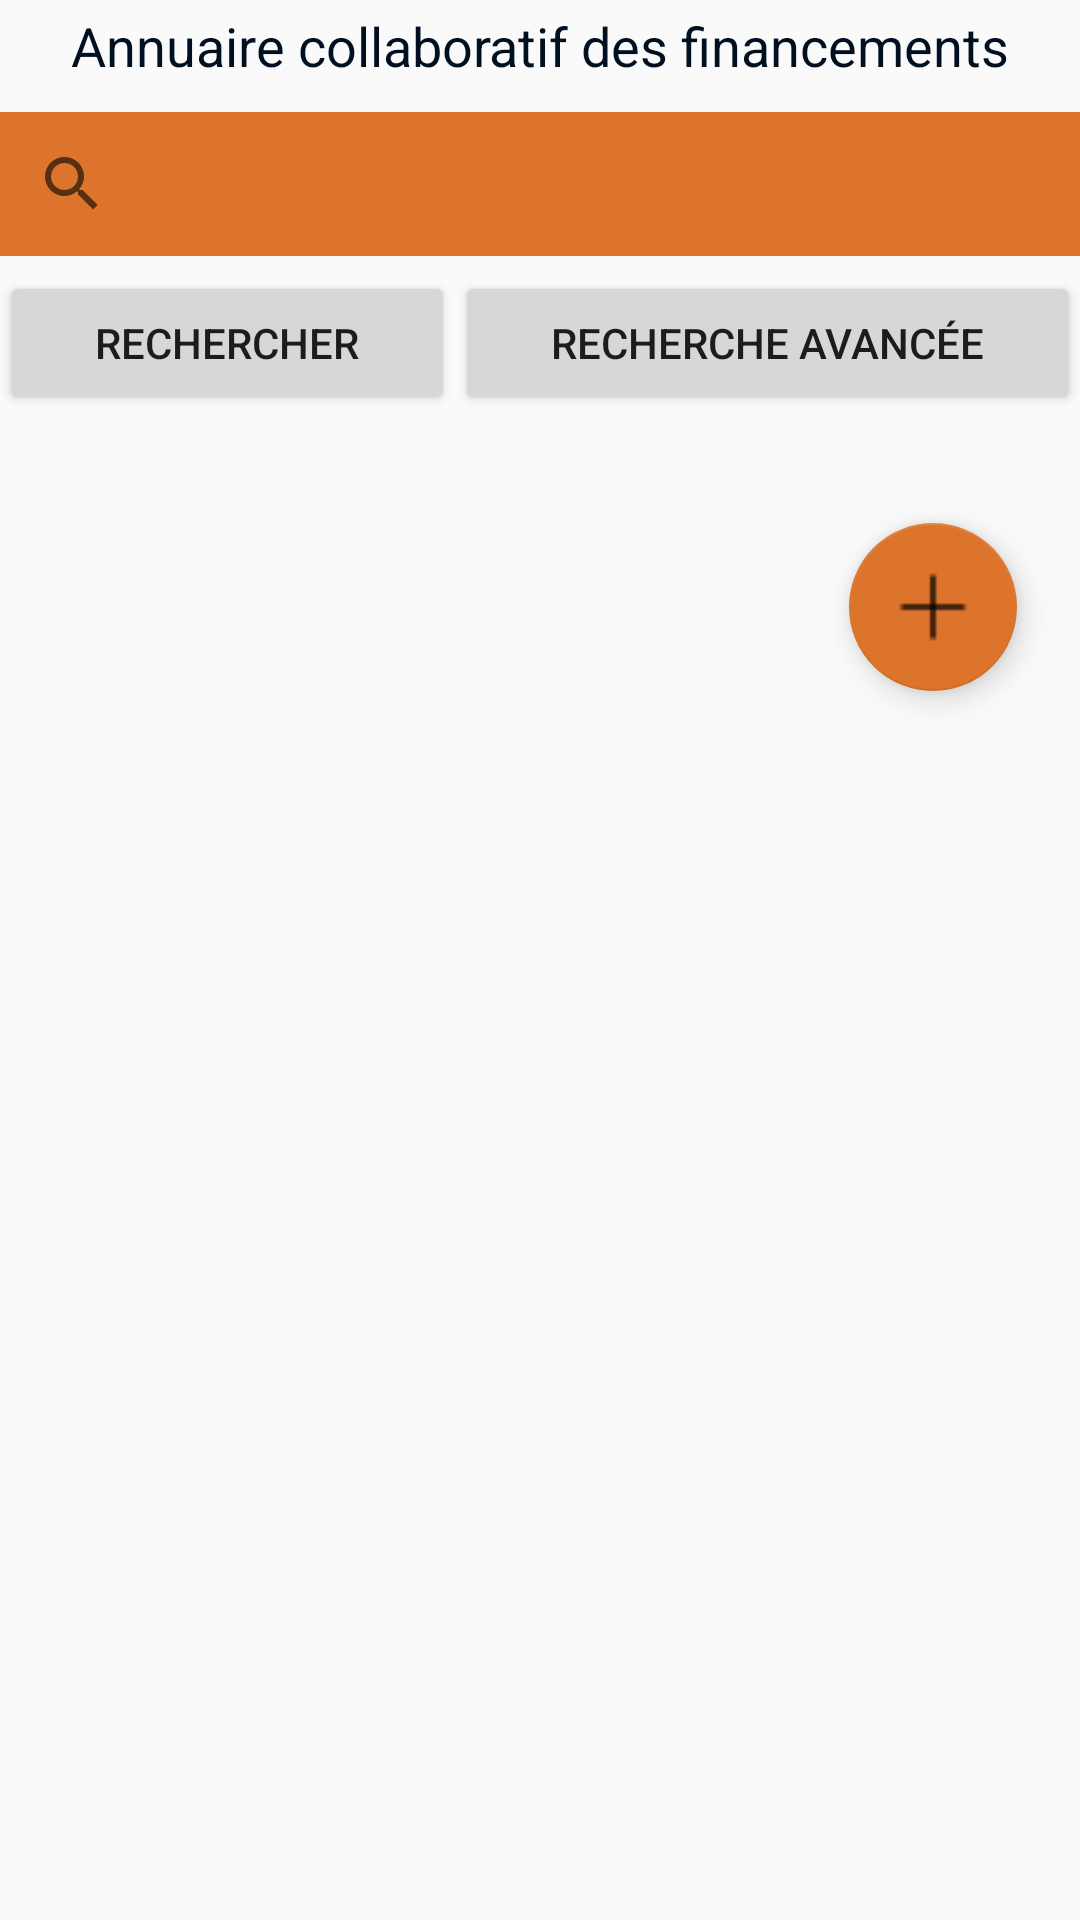

Where to tap for icons on this 1080x1920 app screen, as (x=x, y=y):
plus mini: (x=933, y=607)
